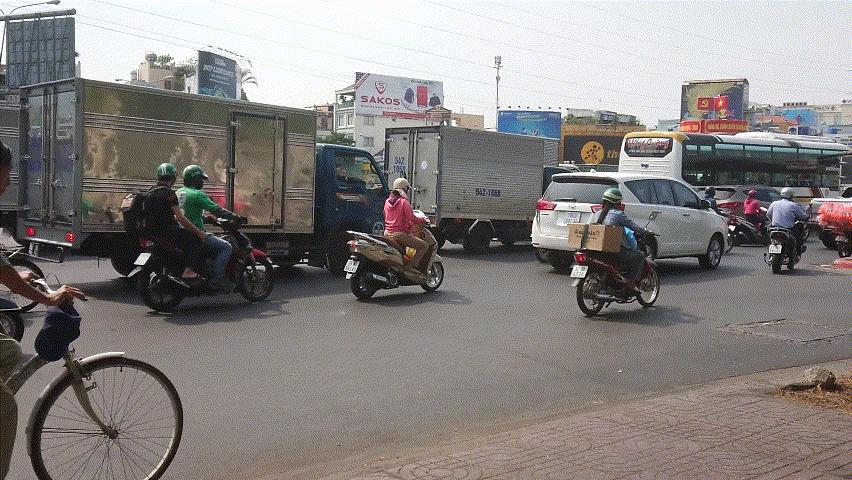bicyclist: (0, 136, 184, 480)
driver: (125, 162, 276, 312), (345, 177, 445, 300), (566, 188, 661, 316), (765, 186, 813, 275), (728, 189, 771, 247)
helmet: (181, 164, 210, 190), (154, 161, 179, 187), (601, 187, 624, 211), (392, 177, 413, 200), (780, 186, 795, 202)
